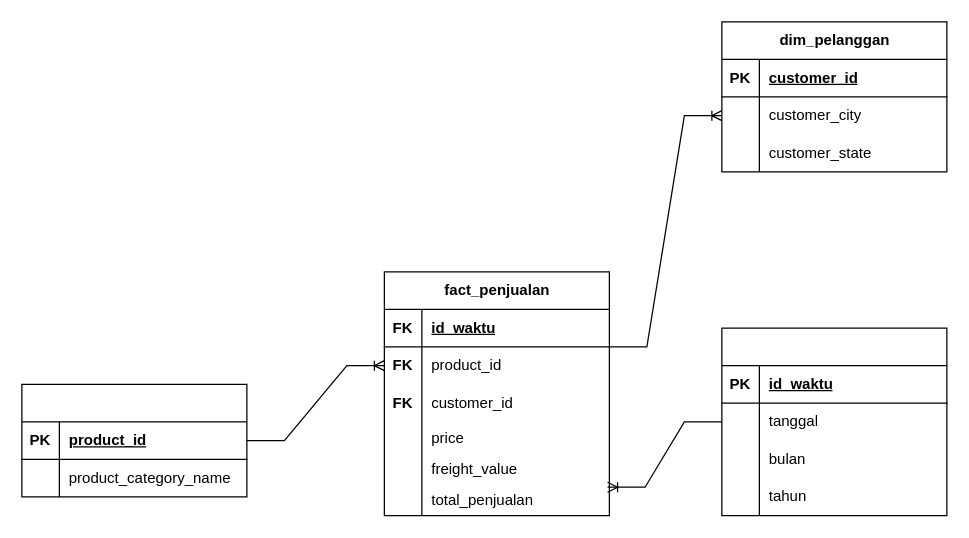
The diagram is 969 pixels wide and 538 high, and some of its shapes have lost their labels. The box of each missing label's shape, as (x1, y1, x2, y2) in pixels:
dim_produk: (21, 383, 247, 497)
dim_waktu: (721, 327, 947, 516)
